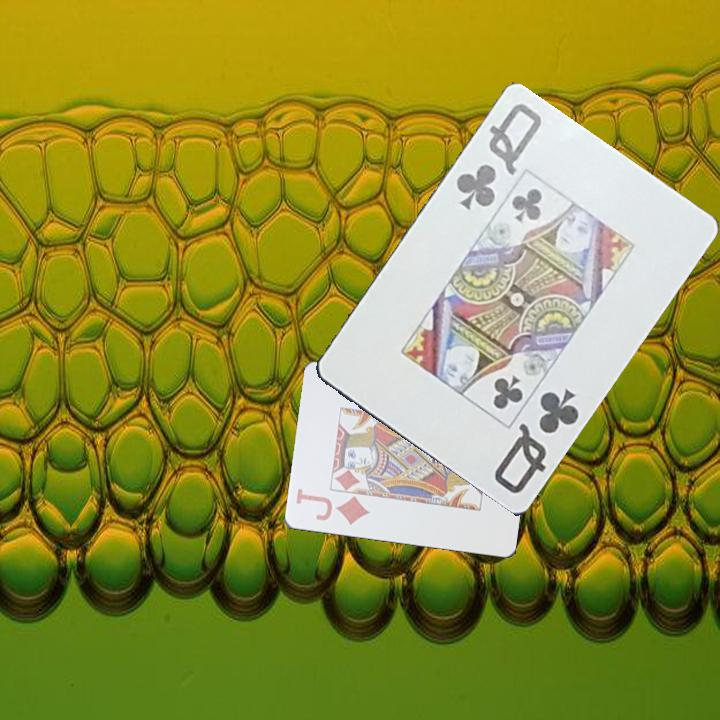Jd: (292, 487, 373, 528)
Qc: (452, 99, 545, 214), (490, 385, 583, 498)
